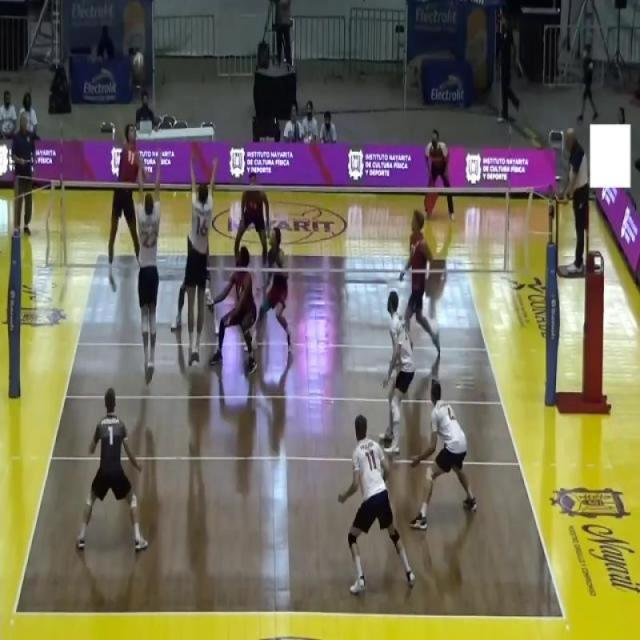volleyball: (132, 51, 144, 76)
